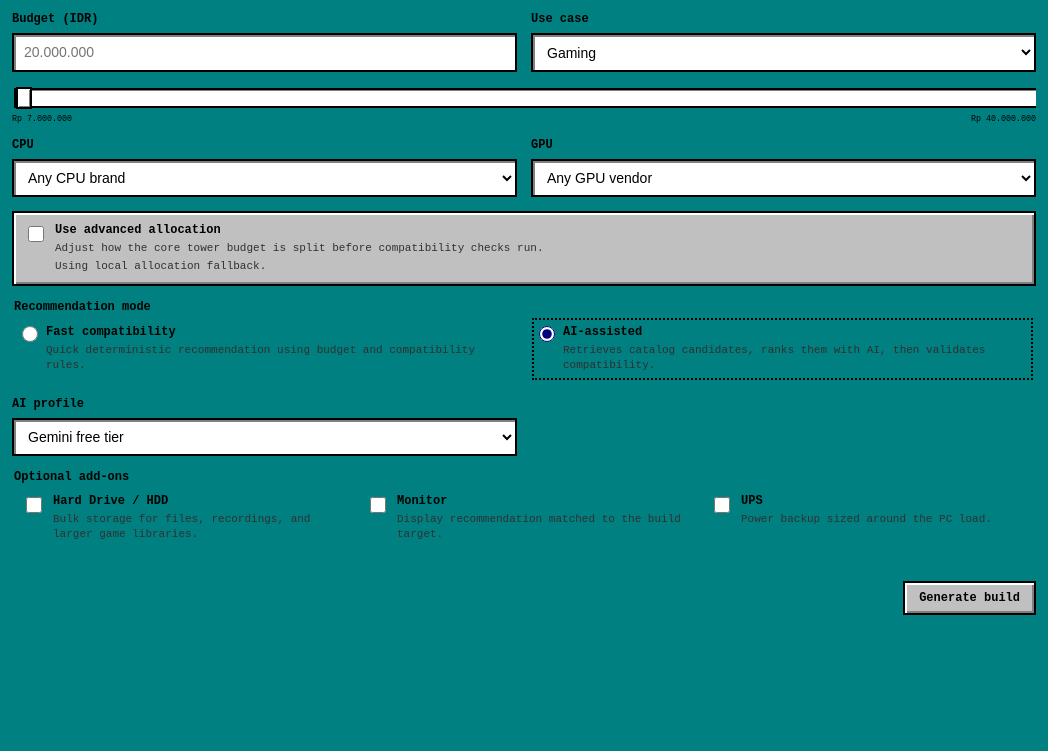
build wizard › protects manual allocation edits until the user applies a new suggested split
Click the checkbox labelled "Use advanced allocation": (36, 234) left=28, top=226, right=44, bottom=242
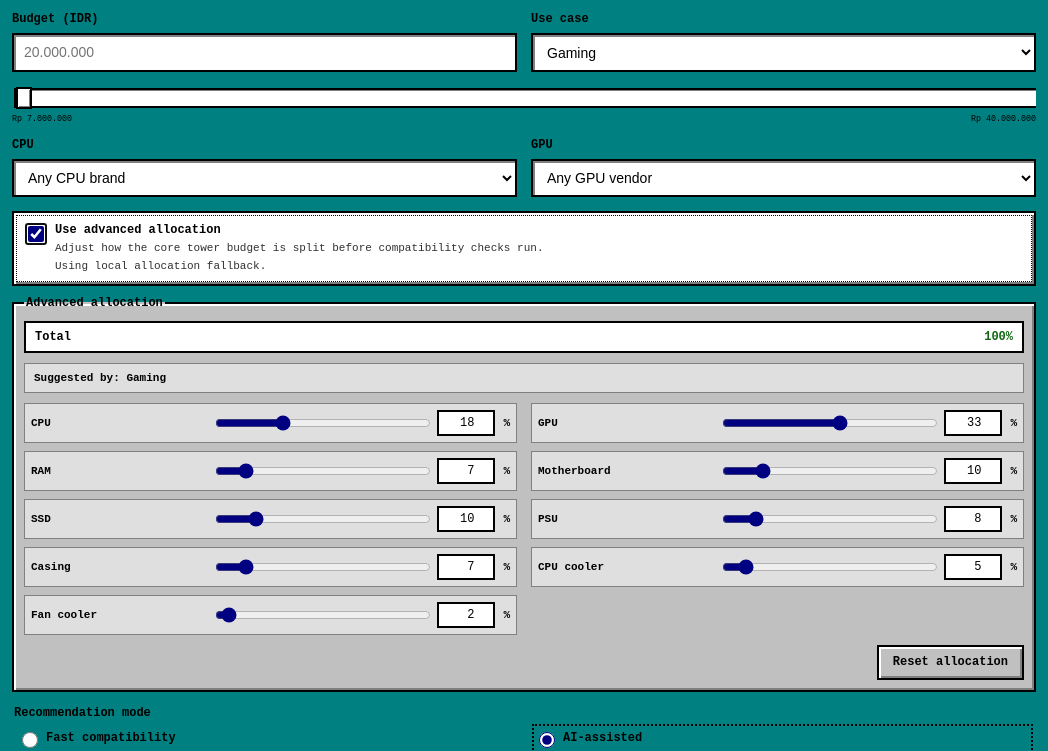
Replace the text in the number field named "CPU allocation percent" with "21": (466, 423) left=437, top=410, right=495, bottom=436
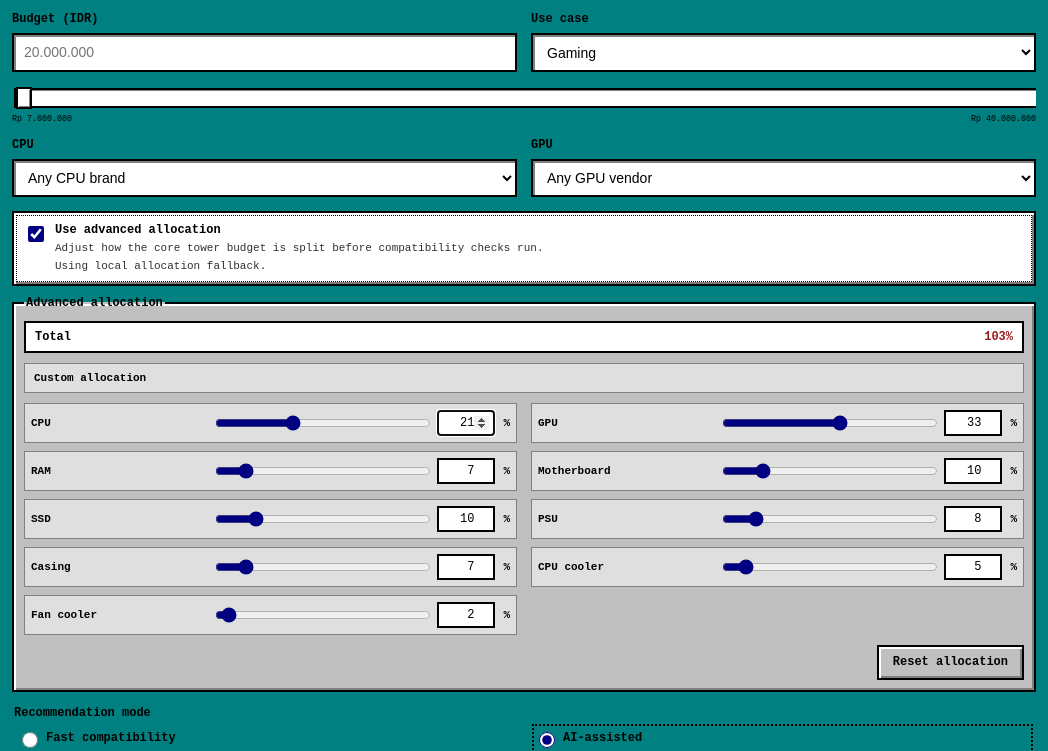
Select "Productivity" in the dropdown labelled "Use case": (784, 53) left=531, top=33, right=1036, bottom=72
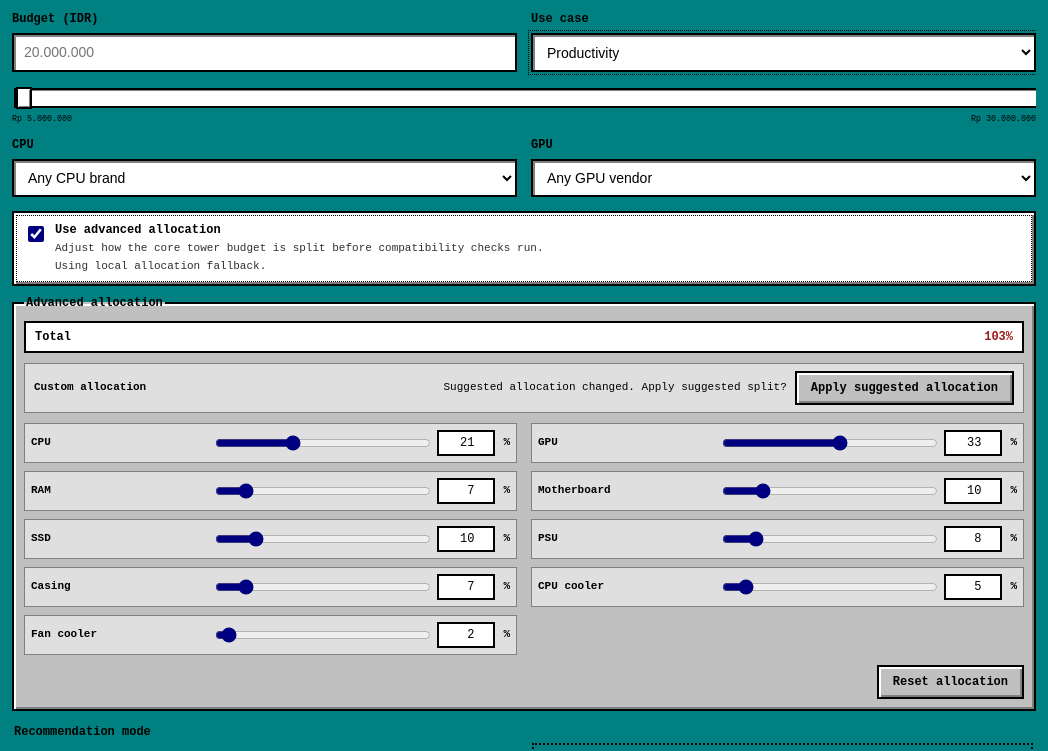
Expected: the text "Custom allocation" is shown, left=34, top=380, right=146, bottom=395
Expected: the text "Suggested allocation changed. Apply suggested split?" is shown, left=444, top=381, right=787, bottom=393
Click the button "Apply suggested allocation": (904, 388) left=795, top=371, right=1014, bottom=405
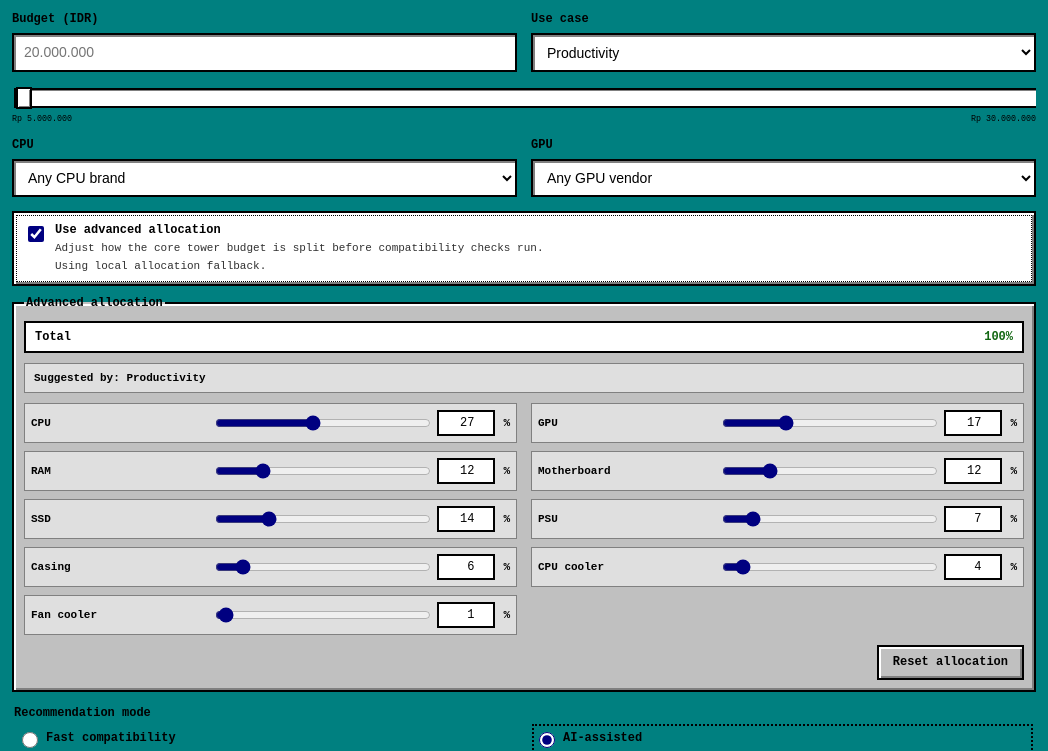
Expected: the number field named "CPU allocation percent" holds "27", left=437, top=410, right=495, bottom=436
Expected: the number field named "GPU allocation percent" holds "17", left=944, top=410, right=1002, bottom=436
Expected: the text "Suggested allocation changed. Apply suggested split?" is gone
